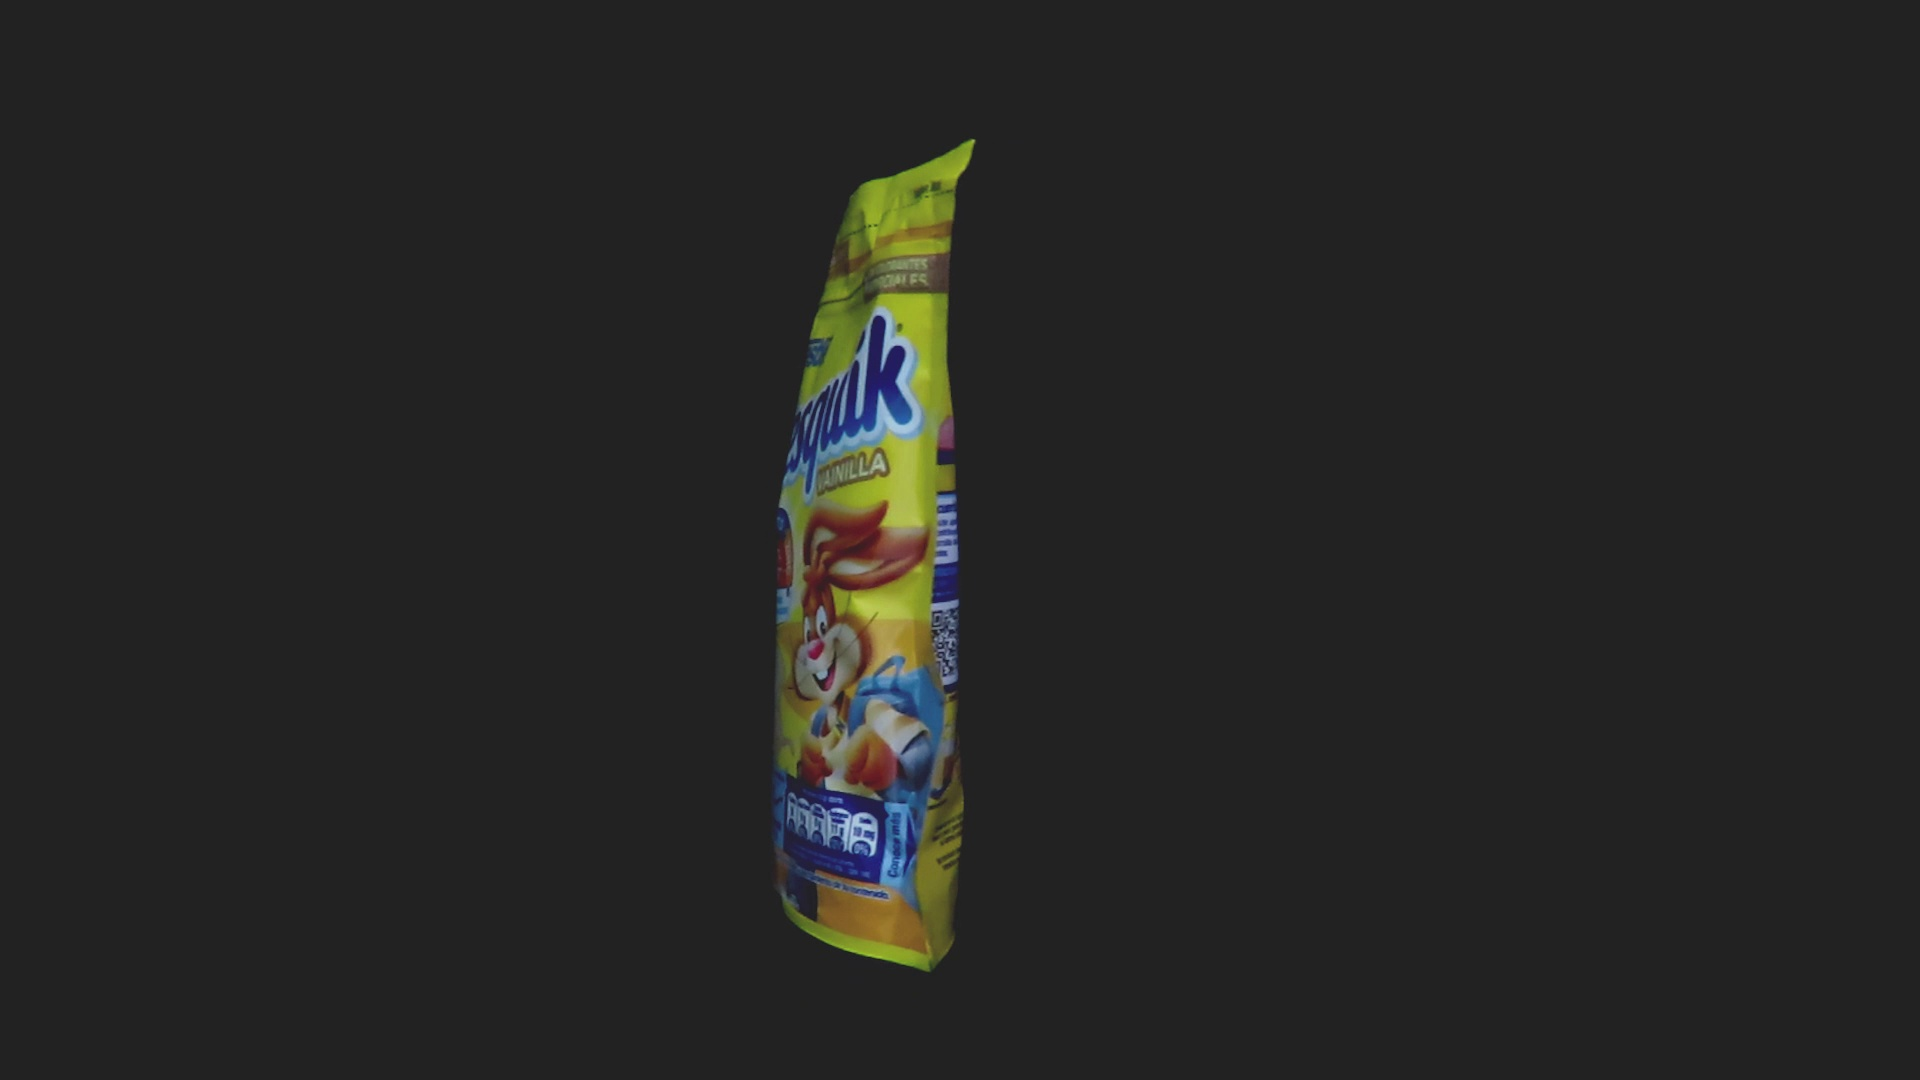COL0170306DYP20000: (767, 135, 981, 978)
